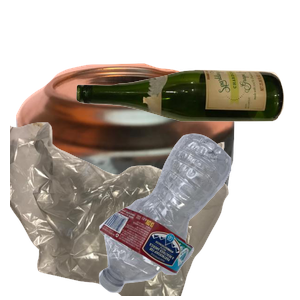glass: (74, 67, 300, 181)
metal: (13, 61, 240, 241)
plastic: (96, 131, 300, 300)
trash: (10, 120, 231, 300)
